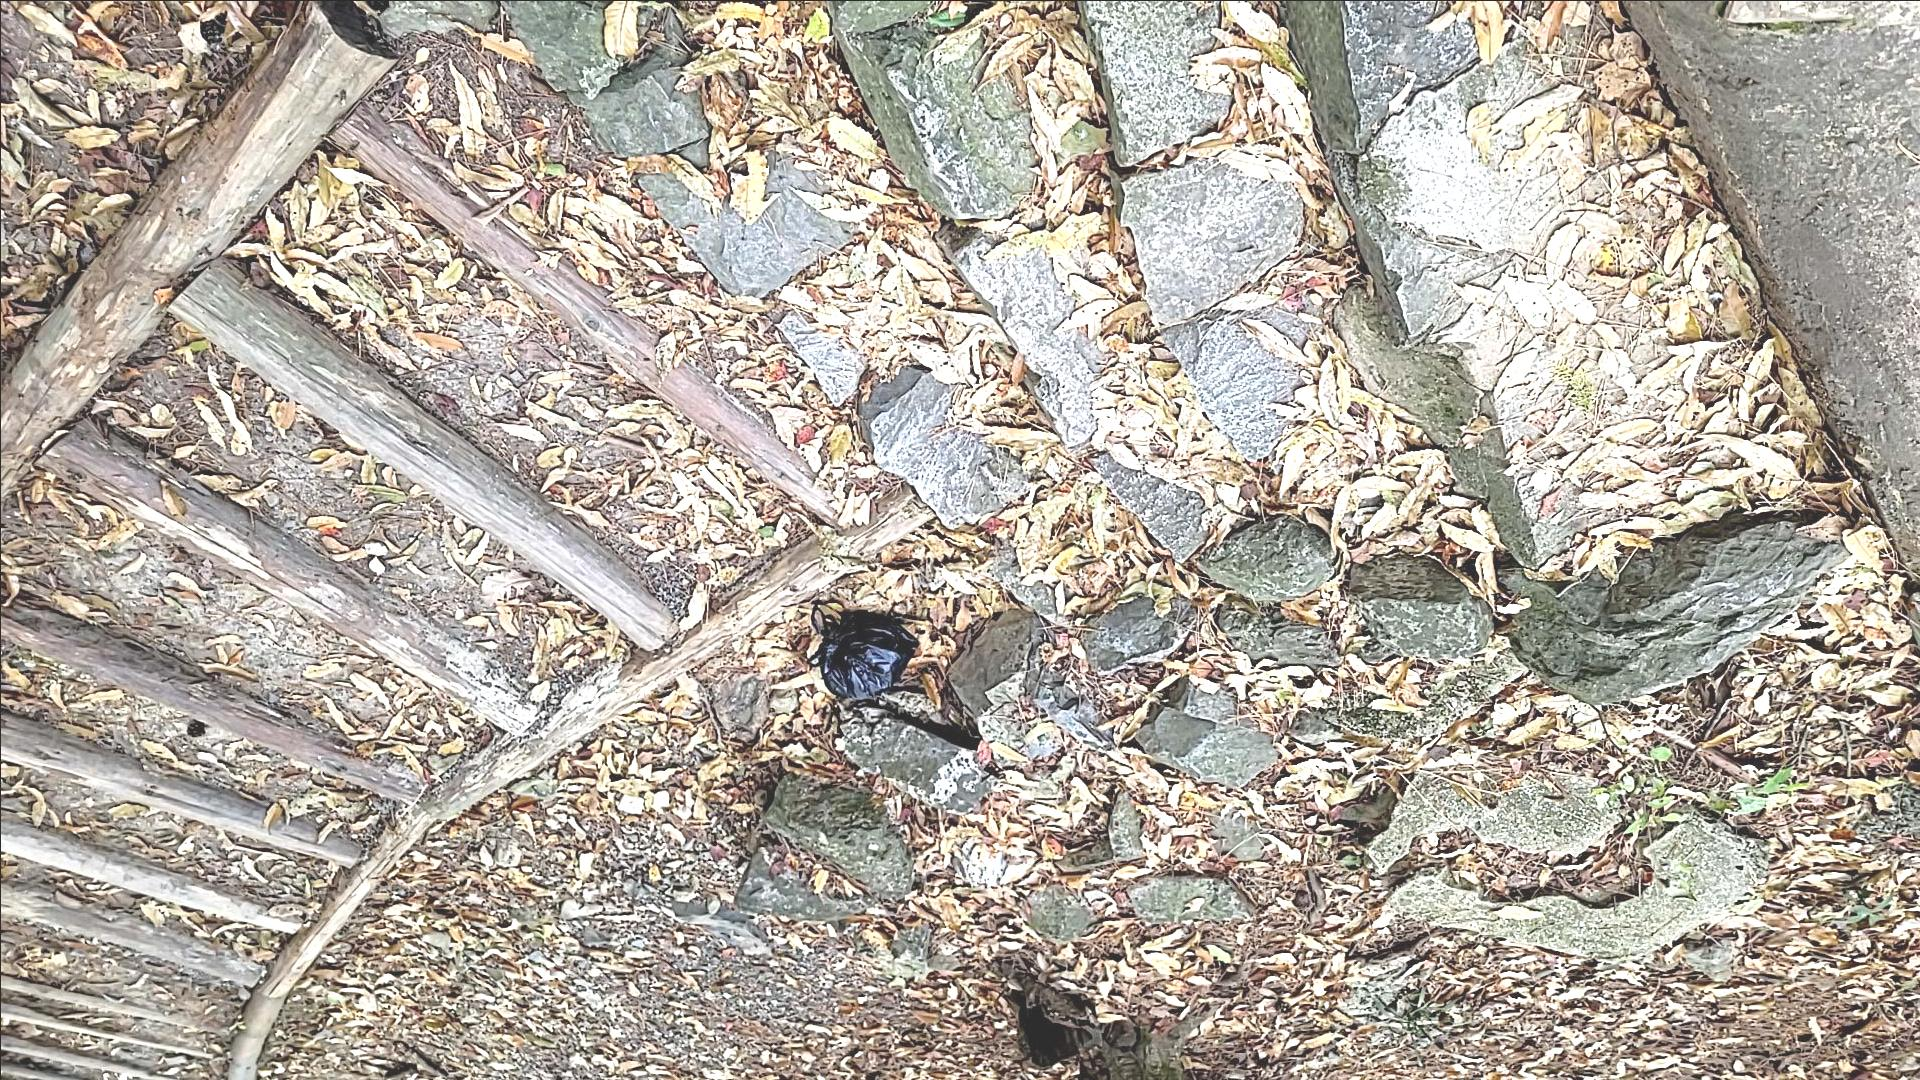black_bag: (804, 597, 916, 704)
